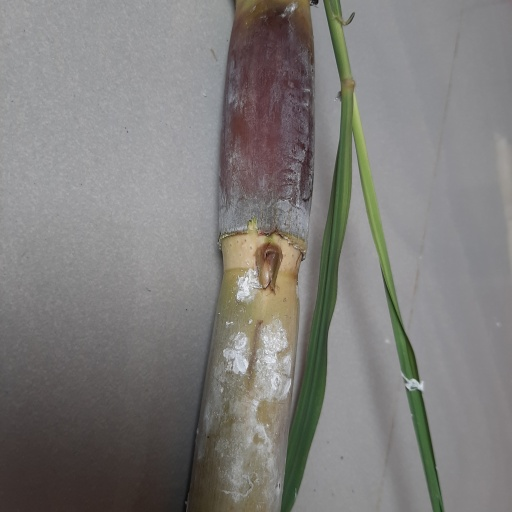Bud: (258, 243, 283, 290)
